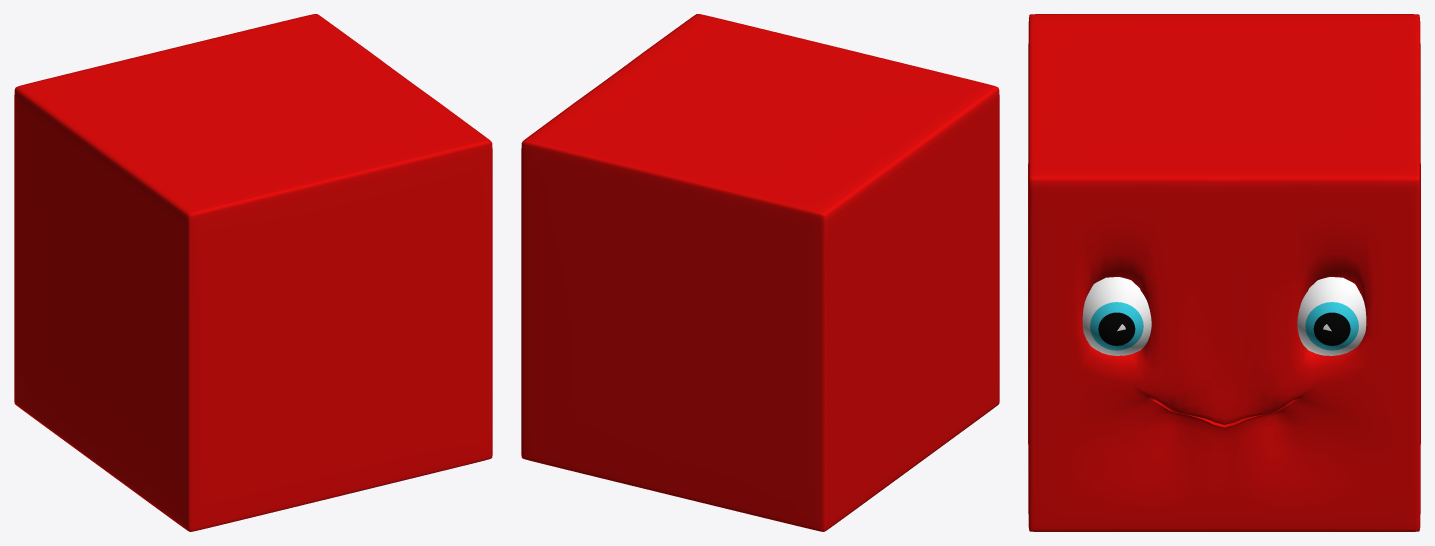
File: КУБИК.glb
3 views of the same model, side by side, from view 1: azimuth 30°, elevation 25°; view 2: azimuth 150°, elevation 25°; view 3: azimuth 270°, elevation 25° (orthographic). The views are drawn at different scales.
Visible parts, largest first — view 1: Cube; view 2: Cube; view 3: Cube, Sphere.
Part boxes in pixels (box(x1,y1,x2,y2)): Cube: box(14, 14, 492, 531); Cube: box(521, 14, 999, 531); Cube: box(1028, 14, 1420, 531); Sphere: box(1082, 277, 1366, 355).
Bounding box in the file's own units: 2.09 × 2 × 2.
